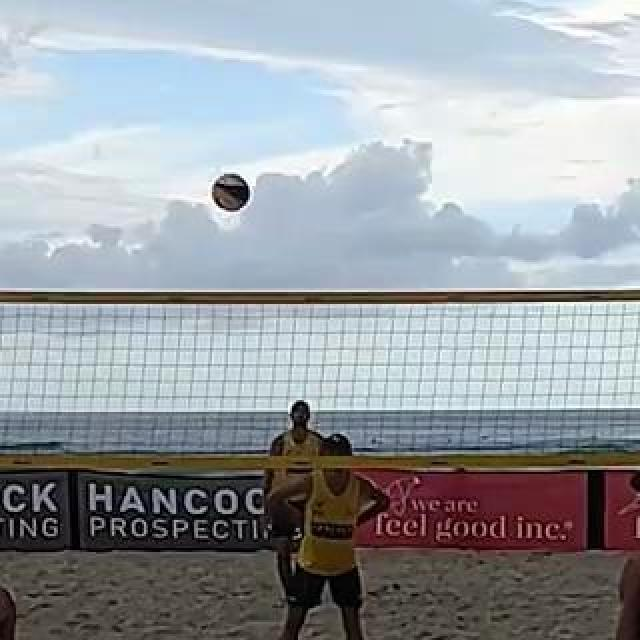volleyball: (212, 172, 252, 212)
